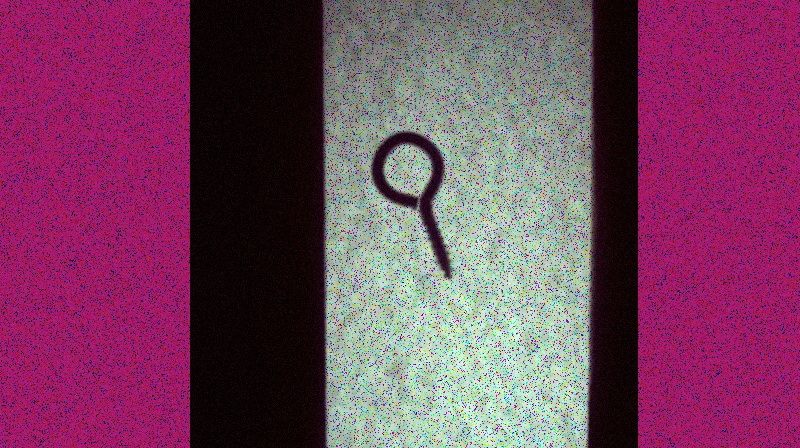O001: (367, 127, 456, 283)
